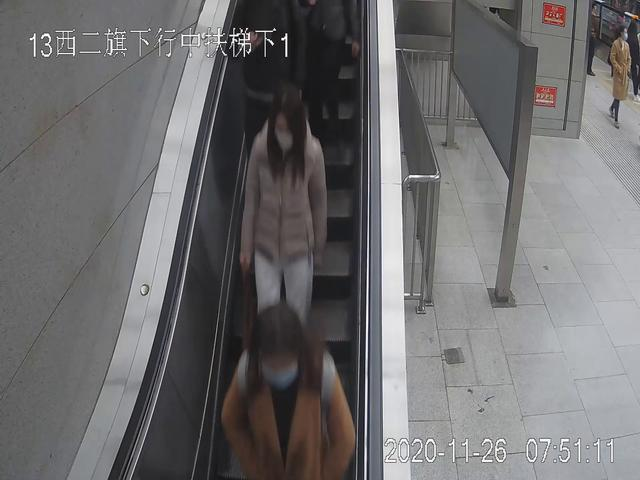person: (236, 89, 326, 372), (222, 309, 357, 480), (609, 25, 631, 127)
